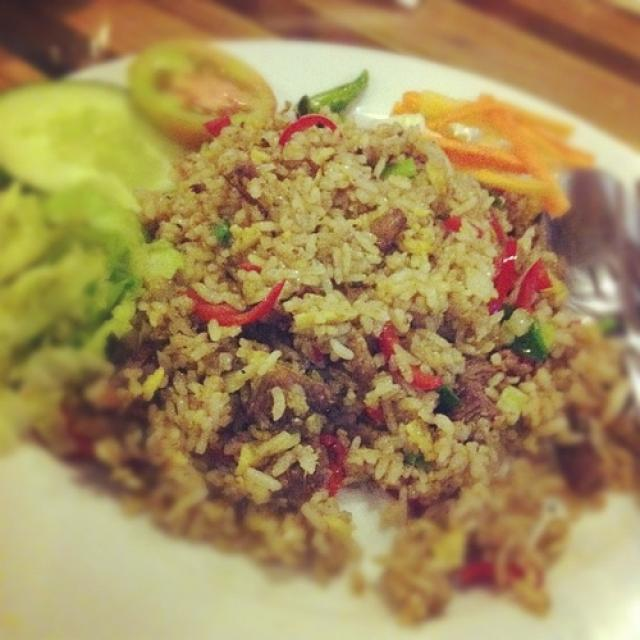米饭主食: (30, 42, 620, 611)
